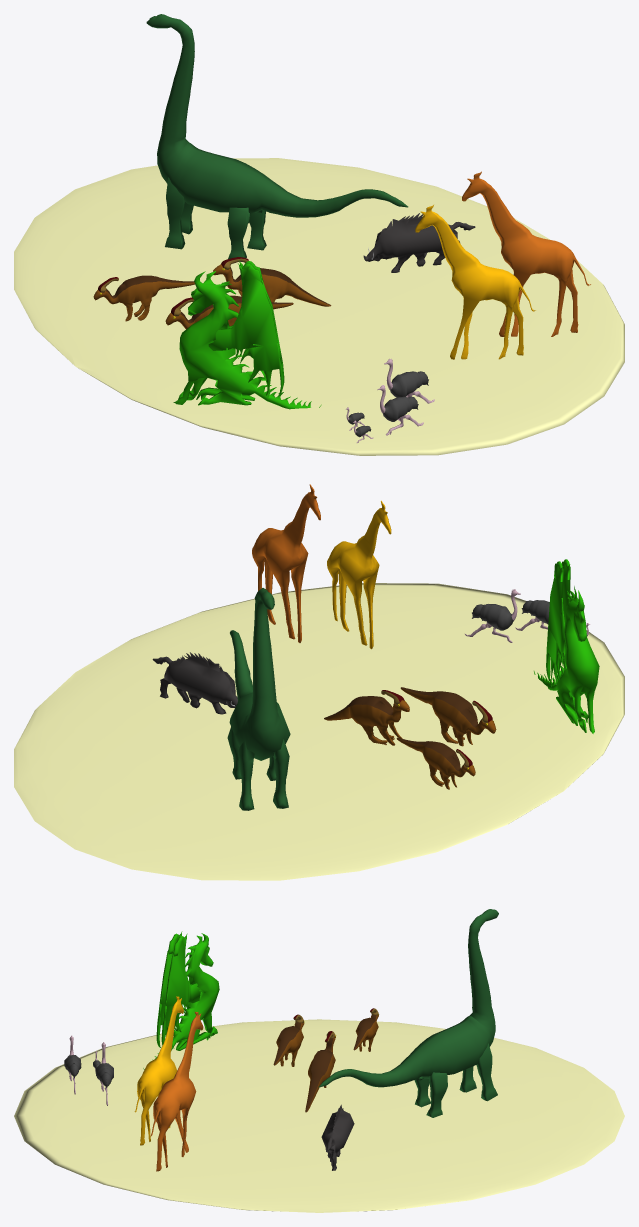
The model's file is animali preistorici Elisabetta Buono.fbx.
3 views of the same model, one above another, from view 1: azimuth 30°, elevation 25°; view 2: azimuth 150°, elevation 25°; view 3: azimuth 270°, elevation 25° (orthographic). The views are drawn at different scales.
Visible parts, largest first — view 1: prim15, prim14, prim3, prim12, prim11, prim13, prim7, prim9, prim10, prim2, prim4; view 2: prim15, prim14, prim3, prim12, prim11, prim13, prim4, prim9, prim7, prim10, prim2; view 3: prim15, prim14, prim3, prim12, prim11, prim13, prim9, prim4, prim7, prim10.
Part boxes in pixels (<box>): prim15: <box>14,158,624,455</box>; prim14: <box>146,14,408,261</box>; prim3: <box>173,260,321,409</box>; prim12: <box>462,171,590,336</box>; prim11: <box>415,205,535,359</box>; prim13: <box>363,213,475,272</box>; prim7: <box>93,275,194,321</box>; prim9: <box>213,264,331,306</box>; prim10: <box>384,358,434,403</box>; prim2: <box>377,385,423,435</box>; prim4: <box>165,295,293,329</box>; prim15: <box>14,583,624,880</box>; prim14: <box>227,588,290,810</box>; prim3: <box>534,559,599,733</box>; prim12: <box>252,484,320,642</box>; prim11: <box>327,500,391,649</box>; prim13: <box>152,652,237,714</box>; prim4: <box>400,687,496,746</box>; prim9: <box>324,696,409,745</box>; prim7: <box>396,737,475,789</box>; prim10: <box>465,589,520,642</box>; prim2: <box>515,600,549,630</box>; prim15: <box>14,1019,624,1212</box>; prim14: <box>318,909,498,1117</box>; prim3: <box>143,931,219,1069</box>; prim12: <box>150,1011,203,1171</box>; prim11: <box>134,996,183,1145</box>; prim13: <box>321,1104,354,1170</box>; prim9: <box>305,1034,335,1112</box>; prim4: <box>273,1021,304,1066</box>; prim7: <box>353,1014,378,1051</box>; prim10: <box>95,1042,113,1105</box>.
Bounding box in the file's own units: 1903 × 877 × 2538.
